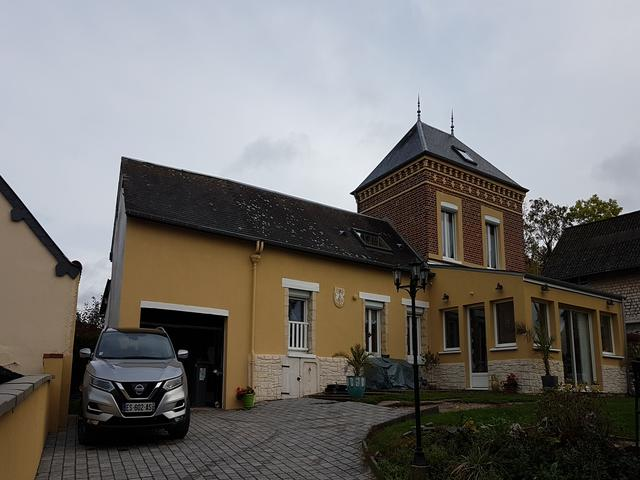Quashquai: (117, 399, 159, 417)
